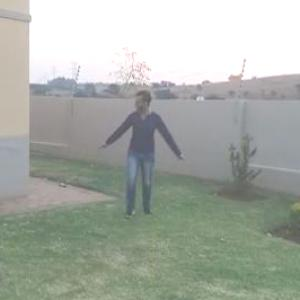land: (88, 92, 192, 234)
